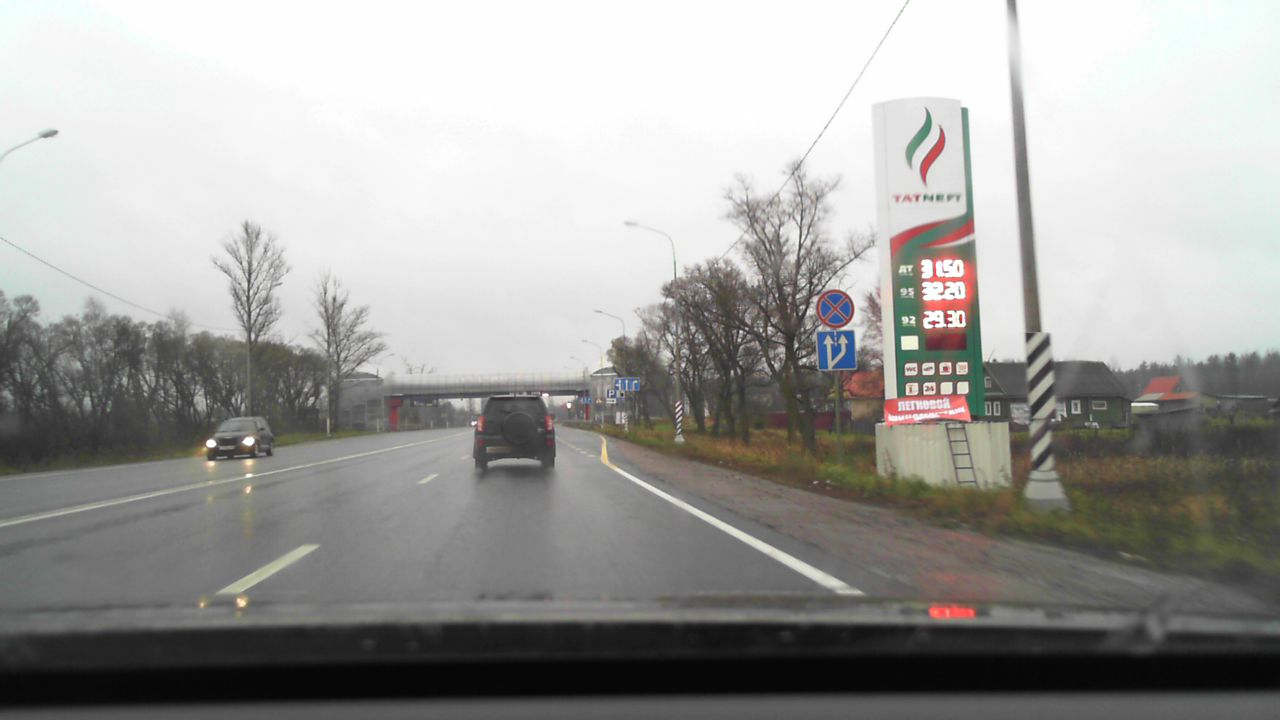No Parking: (816, 289, 854, 328)
